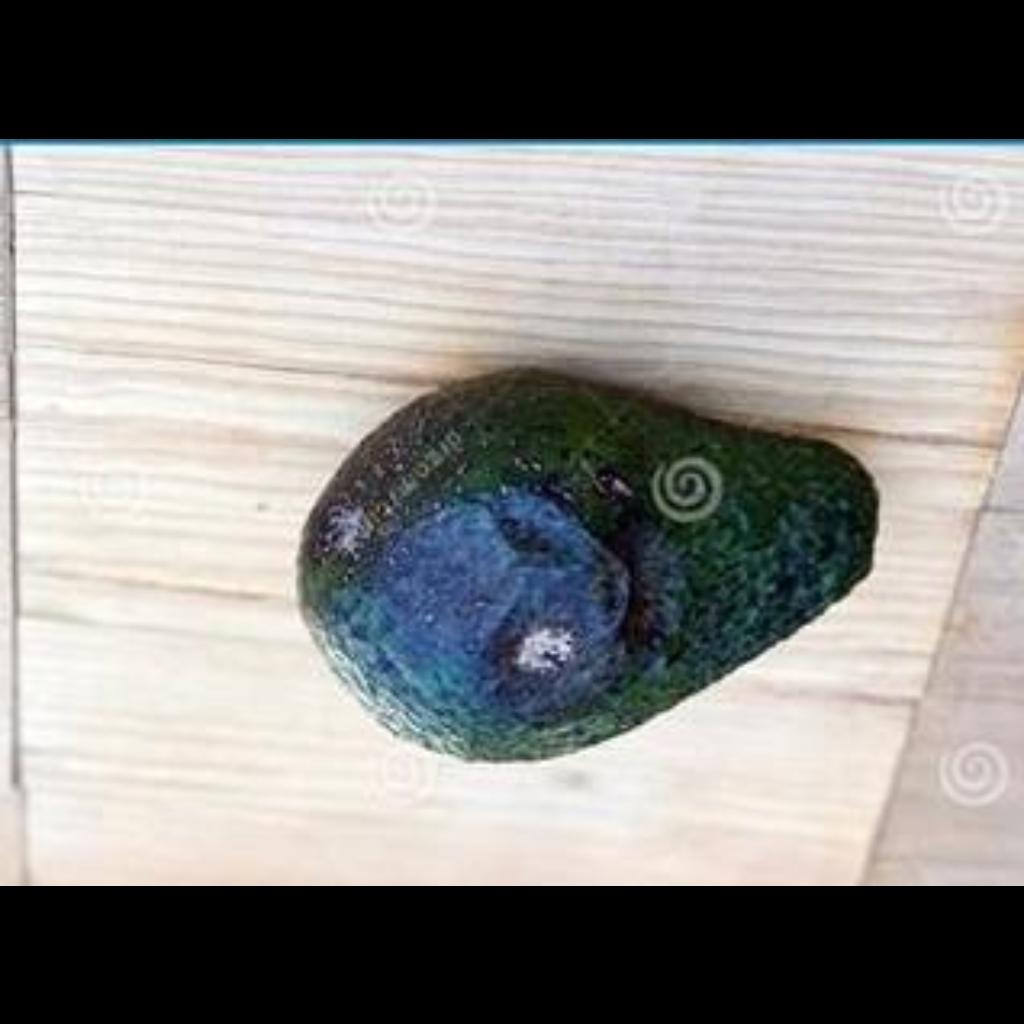antracnosis_fruto: (321, 407, 724, 752)
